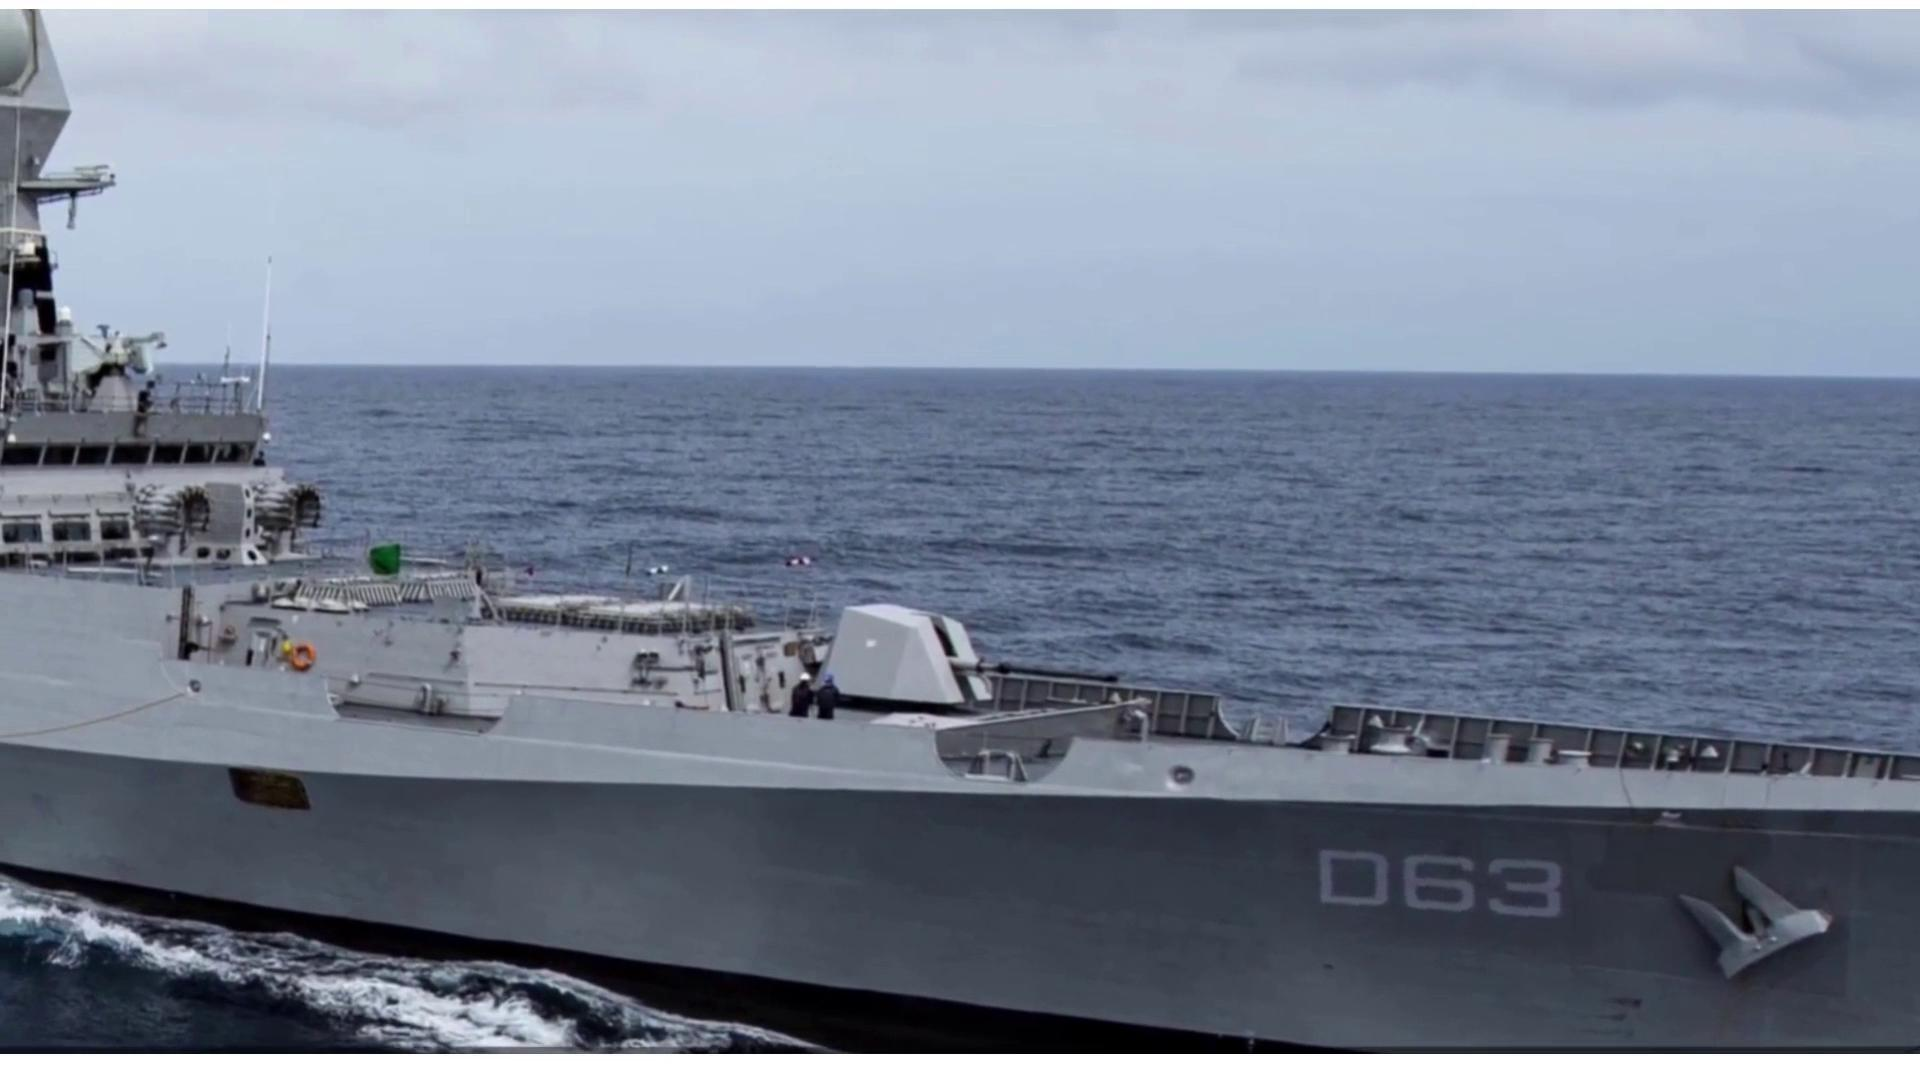OCR: (1304, 839, 1573, 937)
